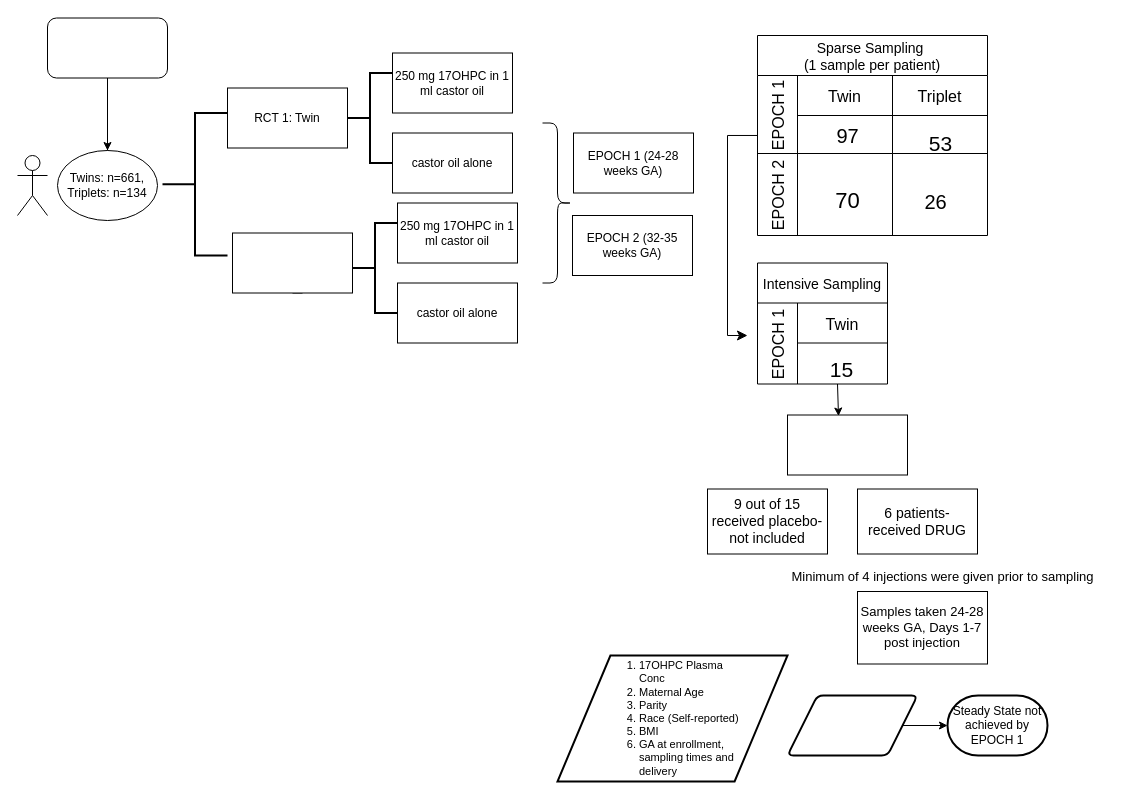
Image size: 1125x807. Some labels were removed from this diagram. The centre of each missing label's shape, as x and y in pixels:
Actor: [32,185]
Masked to treatment arm: [847,444]
PK of 17OHPC in multifetal gestation (MFMU Study): [107,47]
Plasma Conc at EPOCH 2 >> EPOCH 1: [852,725]
RCT 2: Triplets: [292,262]
